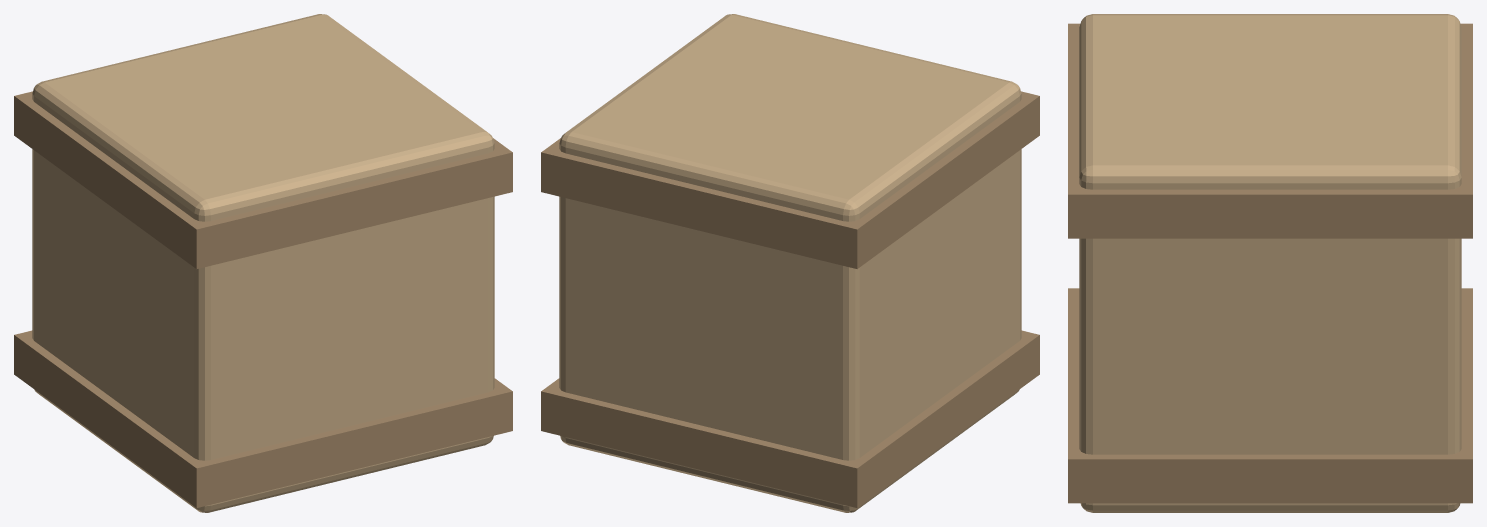
File: WoodBox.fbx
The picture shows the model from 3 angles, left to right: view 1: azimuth 30°, elevation 25°; view 2: azimuth 150°, elevation 25°; view 3: azimuth 270°, elevation 25°; orthographic projection. The views are drawn at different scales.
Visible parts, largest first — view 1: Box, Frame1, Frame0; view 2: Box, Frame1, Frame0; view 3: Box, Frame1, Frame0.
Part boxes in pixels (x1,y1,x2,y2): Box: (32,14,494,512); Frame1: (14,91,512,268); Frame0: (14,330,512,507); Box: (559,14,1021,512); Frame1: (541,91,1039,268); Frame0: (541,330,1039,507); Box: (1079,14,1461,512); Frame1: (1068,23,1472,238); Frame0: (1068,288,1472,503).
Size of the model in its own units: 0.36 by 0.34 by 0.36.
